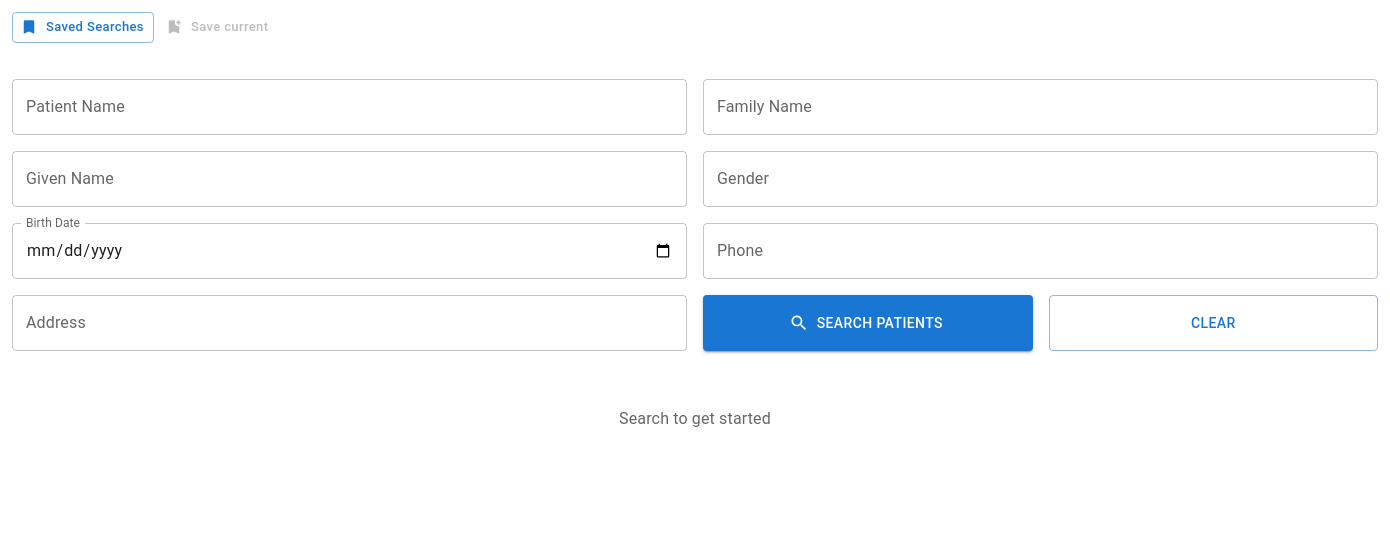
Test: PatientSearch — empty states (FHIR-5 AC2) › shows results (not an empty state) when search returns matches
This screenshot has width=1390, height=543.
Click the button "Search Patients": click(868, 323) [703,295,1032,351]
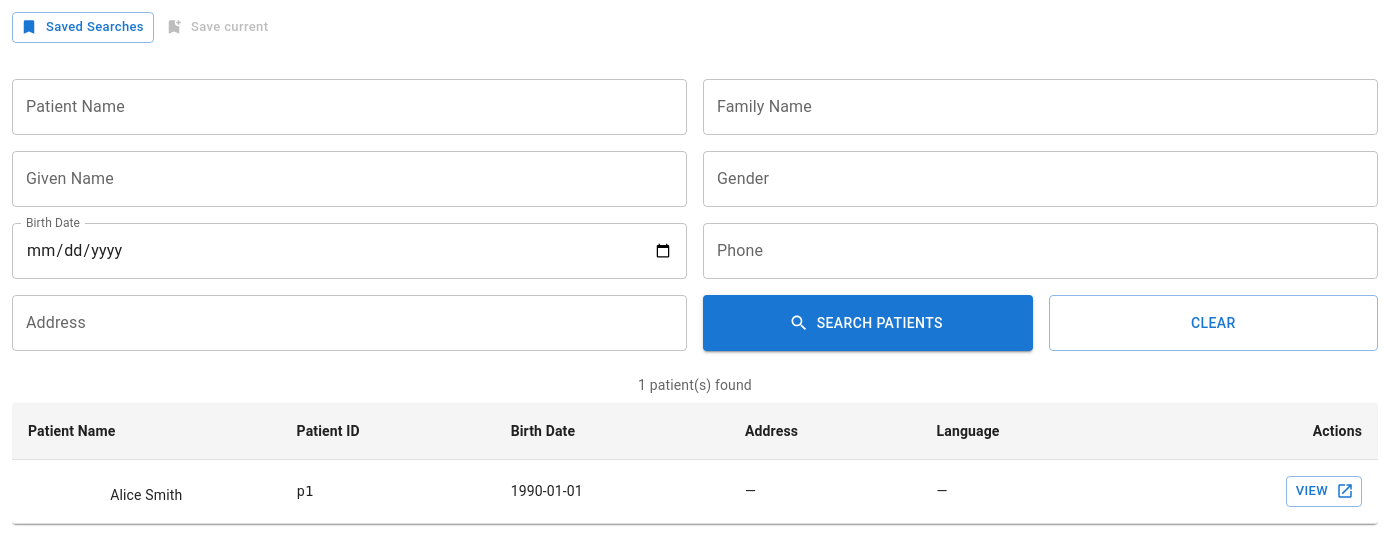
Check: the text "Search to get started" is gone
